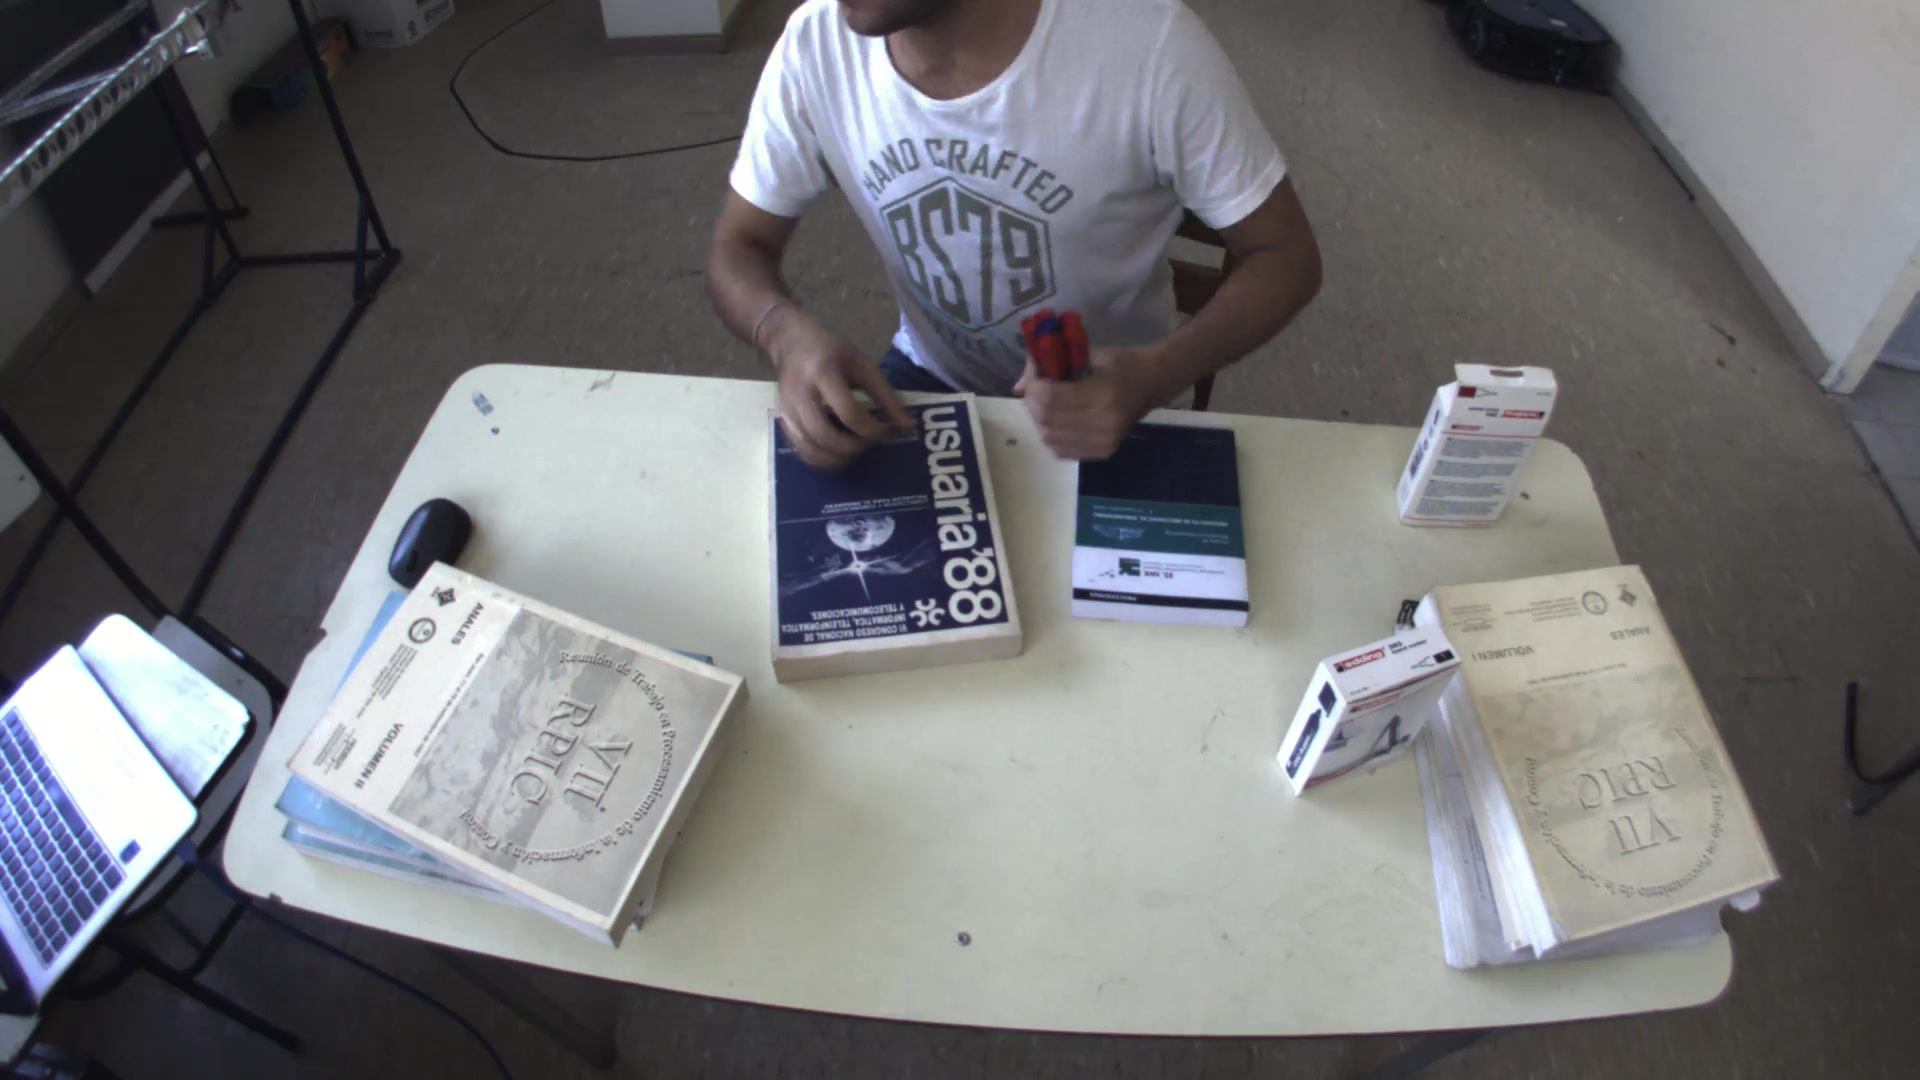hand: (749, 305, 916, 468), (1009, 305, 1164, 469)
